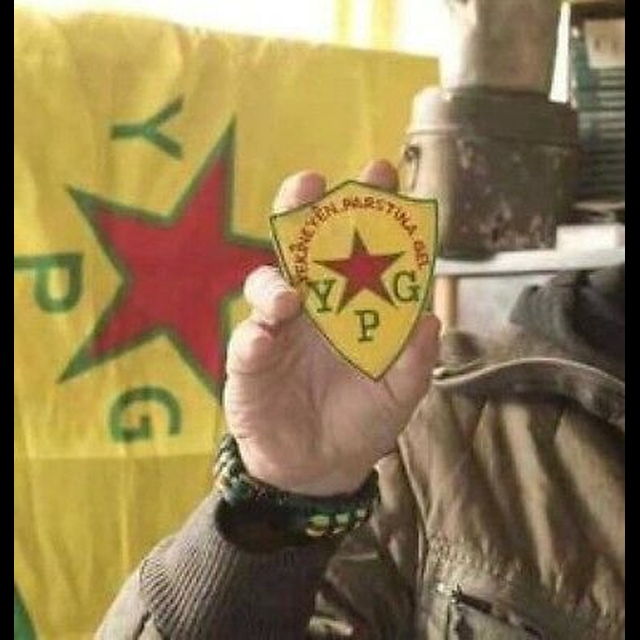YPG: (309, 230, 420, 341)
